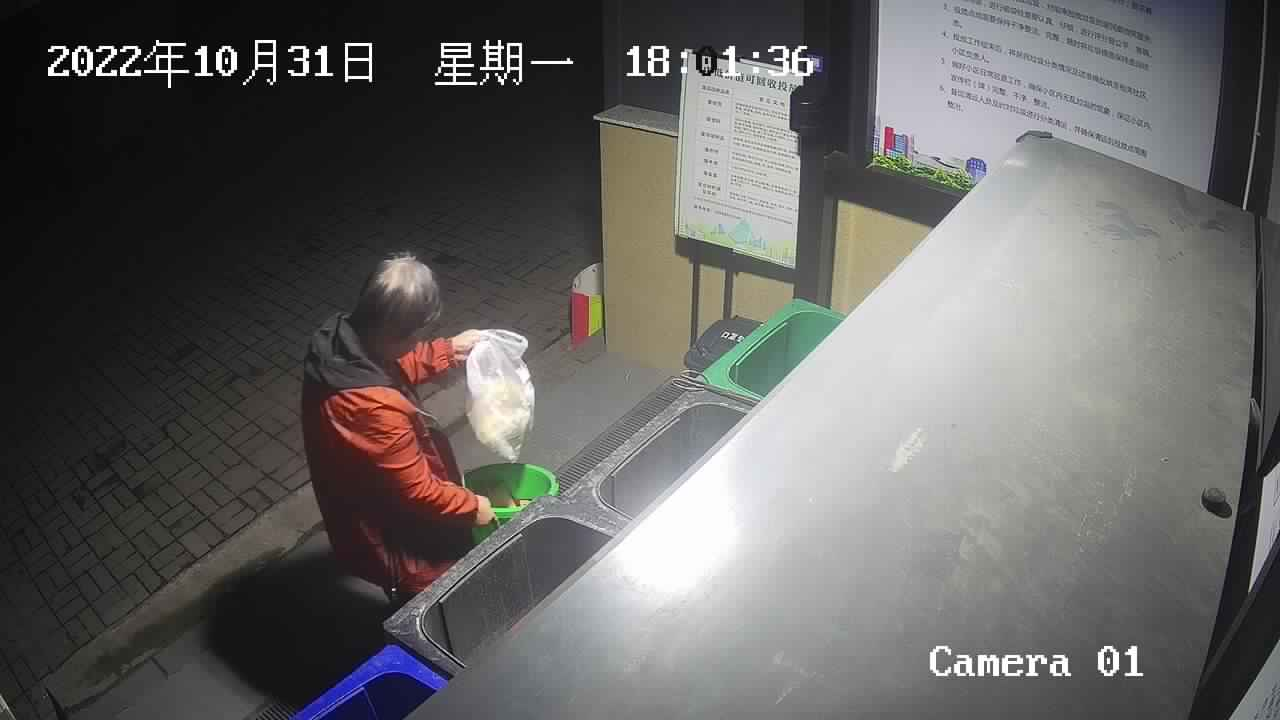garbage-bag: (462, 326, 537, 465)
person: (300, 249, 494, 599)
youtong: (464, 463, 559, 546)
